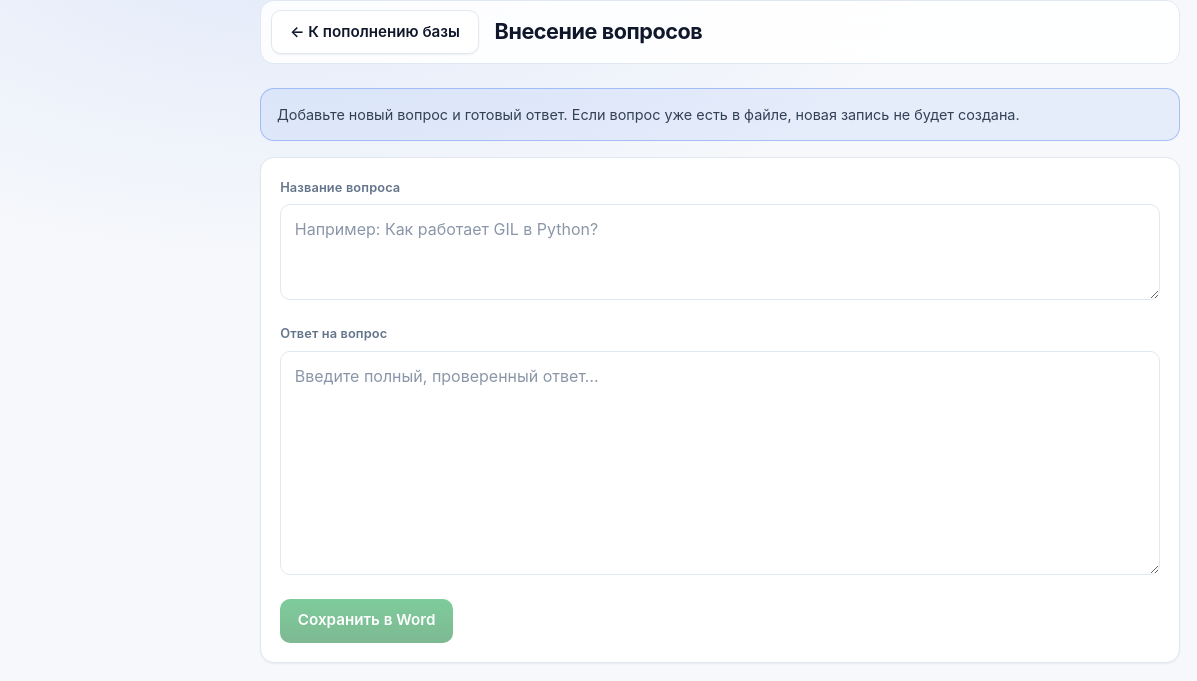
Test case: QuestionEntryContainer › показывает, что дубликат не был добавлен
Type "Что такое GIL?" into the text box labelled "Название вопроса" at point(720, 252), box [280,204,1160,300]
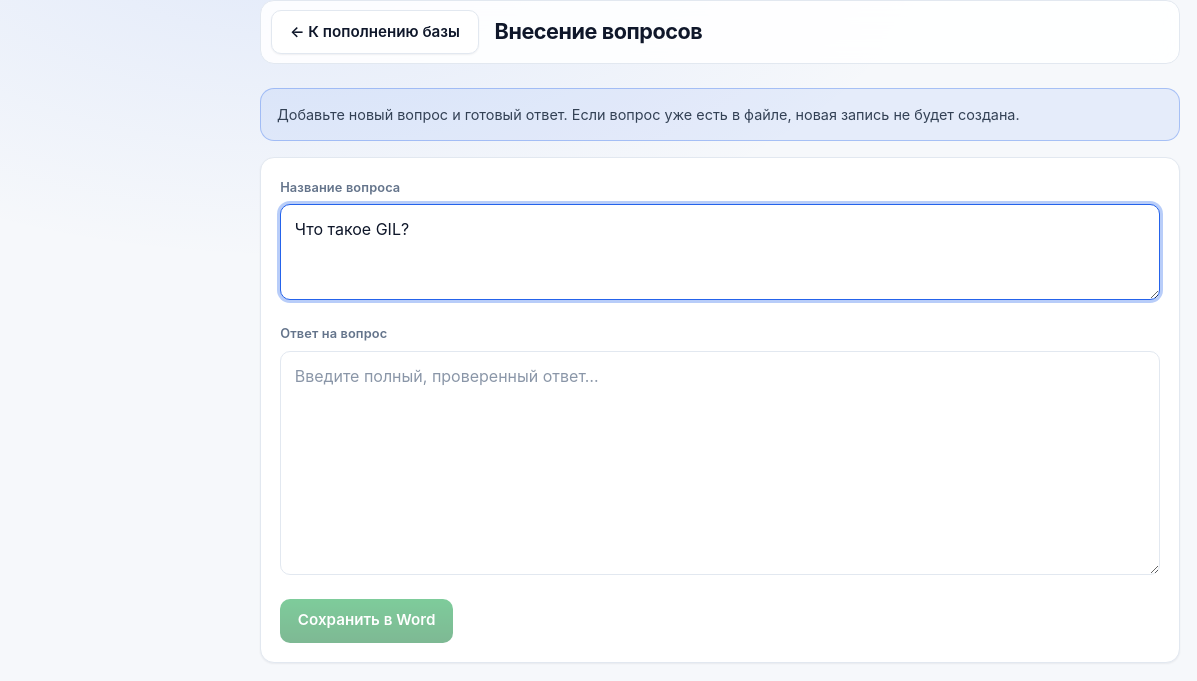
Type "Ответ" into the text box labelled "Ответ на вопрос" at point(720, 463), box [280,351,1160,575]
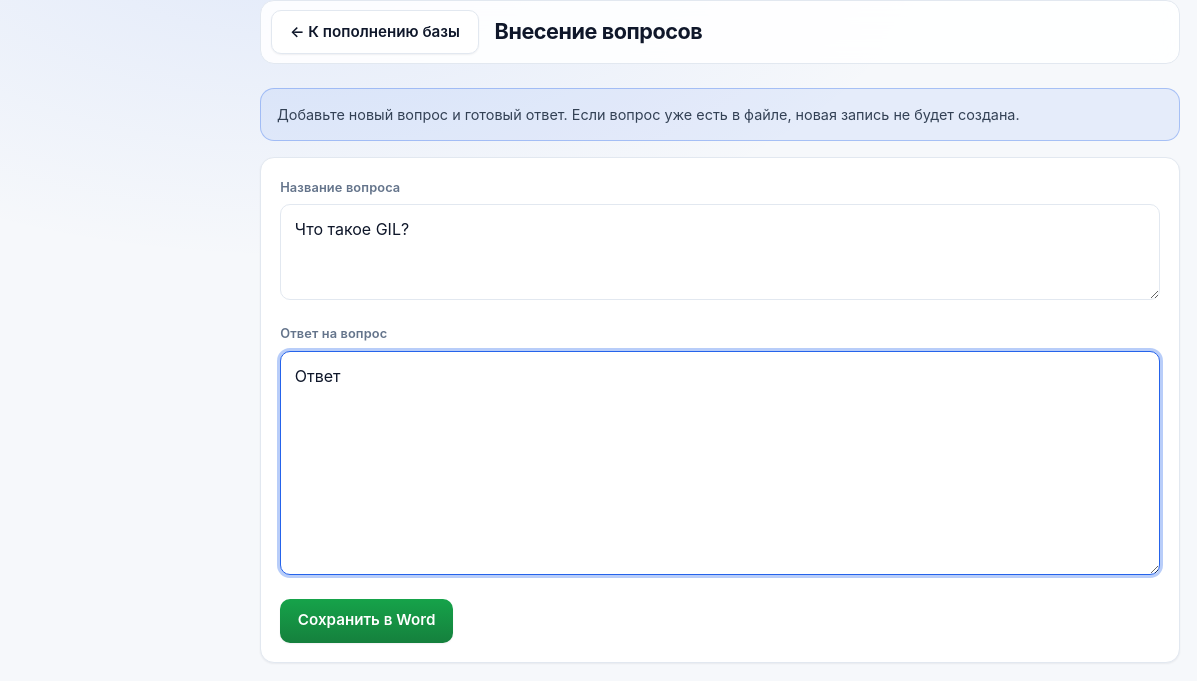
Click the button "Сохранить в Word" at point(367, 620), box [280,598,453,642]
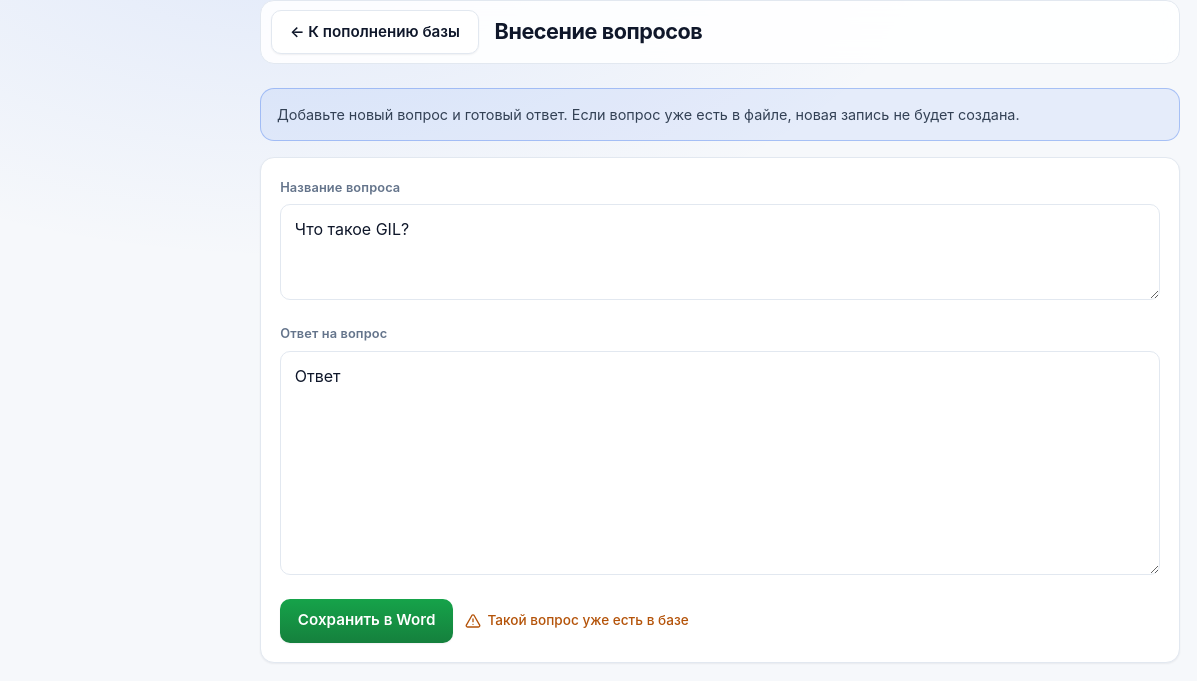
expect the text "Такой вопрос уже есть в базе" is shown: met, box [465,610,689,631]
